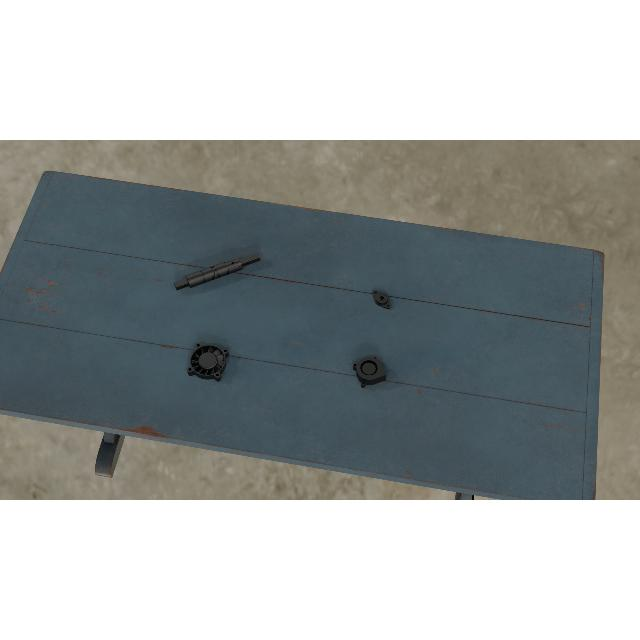Pieza1: (172, 248, 262, 296)
Pieza2: (368, 286, 396, 312)
Pieza3: (352, 354, 386, 390)
Pieza4: (186, 342, 230, 382)
